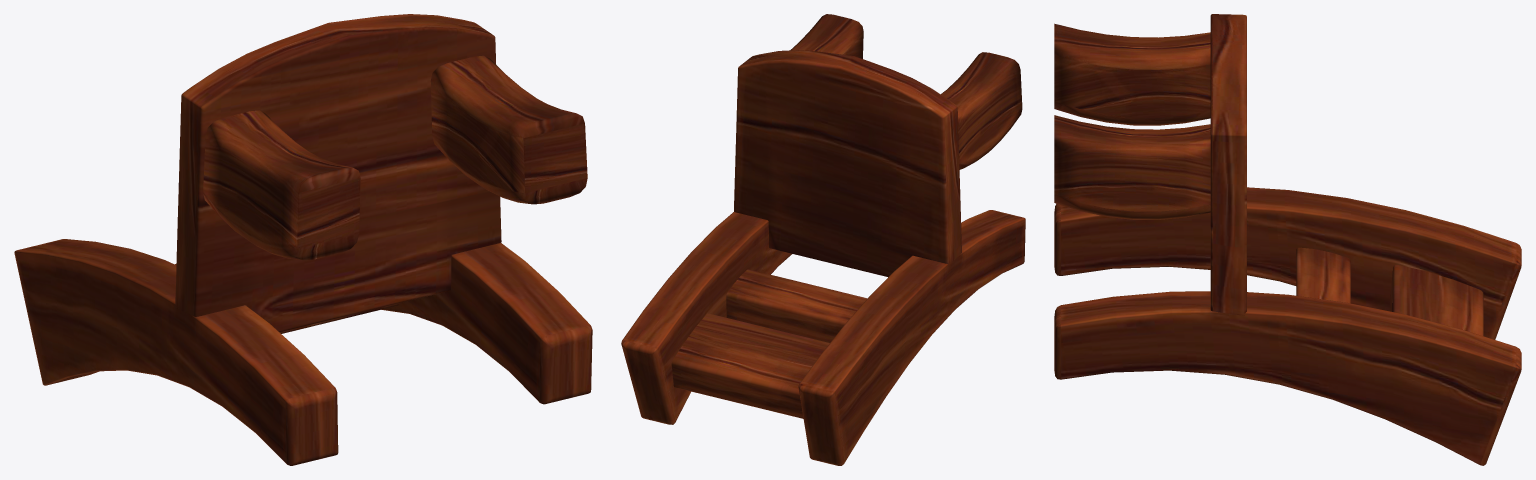
File: Silla Fin.FBX
The picture shows the model from 3 angles, left to right: view 1: azimuth 30°, elevation 25°; view 2: azimuth 150°, elevation 25°; view 3: azimuth 270°, elevation 25°; orthographic projection. The views are drawn at different scales.
Visible parts, largest first — view 1: Silla2; view 2: Silla2; view 3: Silla2.
Boxes of the visible parts, <box> form: Silla2: <box>14,14,592,465</box>; Silla2: <box>621,14,1025,465</box>; Silla2: <box>1054,14,1521,465</box>.
Bounding box in the file's own units: 57.13 × 77.06 × 89.74.
1 material, 1 textured.
